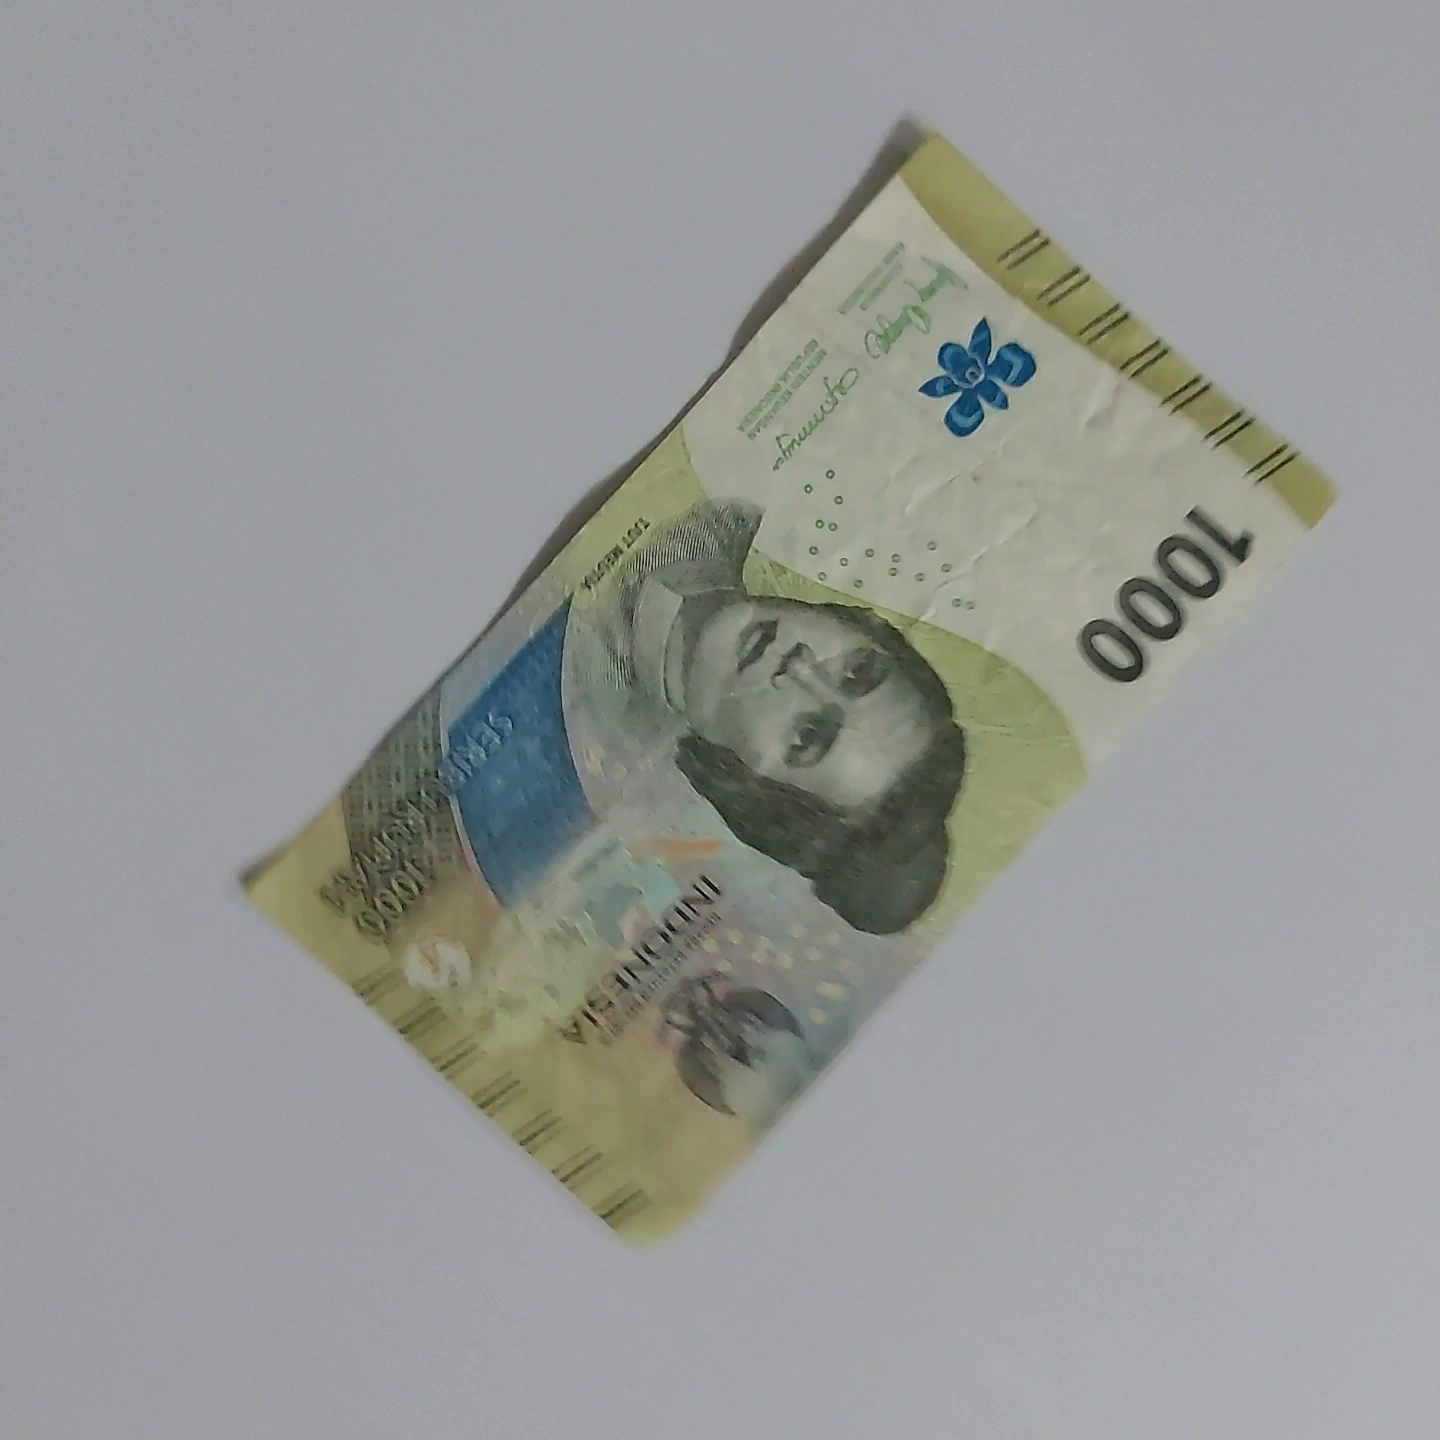1k: (160, 889, 1250, 1440)
